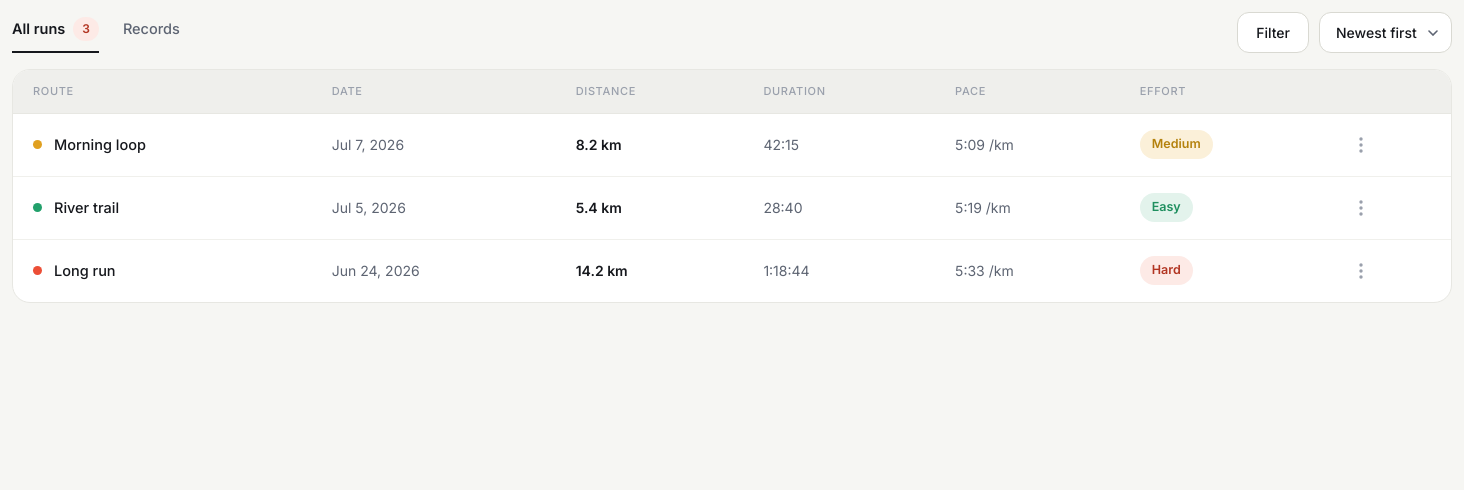
Test: Records tab (RUN-26) › derives the record cards from the stored runs (AC1)
Click the tab "Records".
click(151, 32)  # box top-left (123, 14), bottom-right (180, 51)
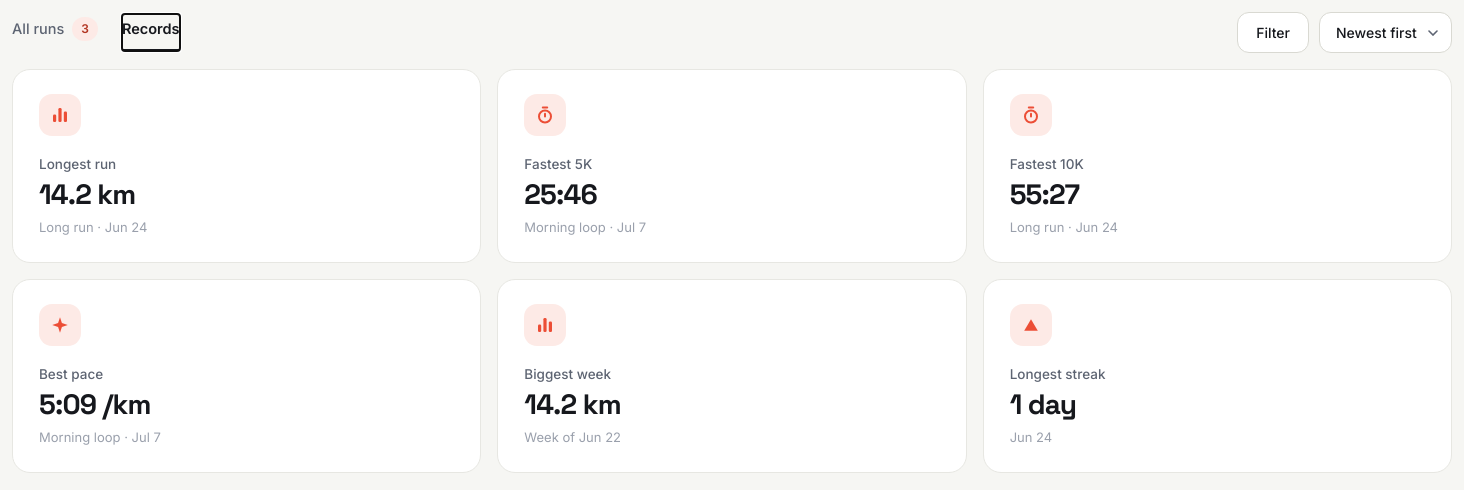
Result: the text "Longest run" is shown at top-left (39, 94), bottom-right (116, 172)
Result: the text "14.2 km" is shown 2 times at top-left (39, 176), bottom-right (135, 212); top-left (524, 386), bottom-right (621, 422)
Result: the text "Long run · Jun 24" below "Longest run" is shown at top-left (39, 219), bottom-right (147, 235)
